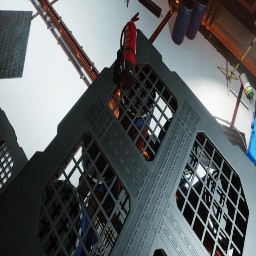0: (240, 73, 254, 104)
FireExtinguisher ]: (118, 12, 139, 88)
